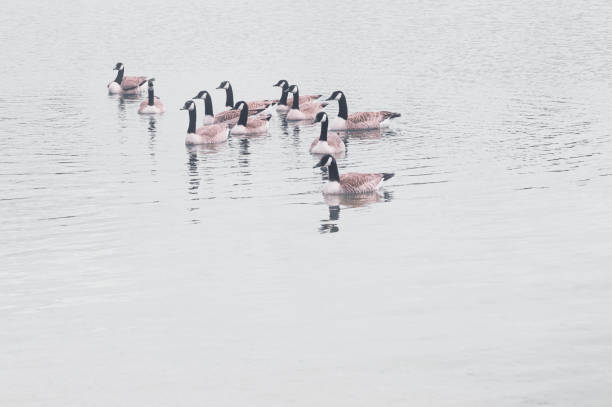goose: (311, 154, 399, 198), (321, 87, 404, 132), (178, 98, 230, 146), (191, 88, 260, 121), (308, 112, 350, 156), (215, 80, 272, 110), (104, 60, 149, 97), (229, 99, 271, 138), (269, 76, 322, 102), (282, 87, 325, 118), (138, 77, 166, 117)
